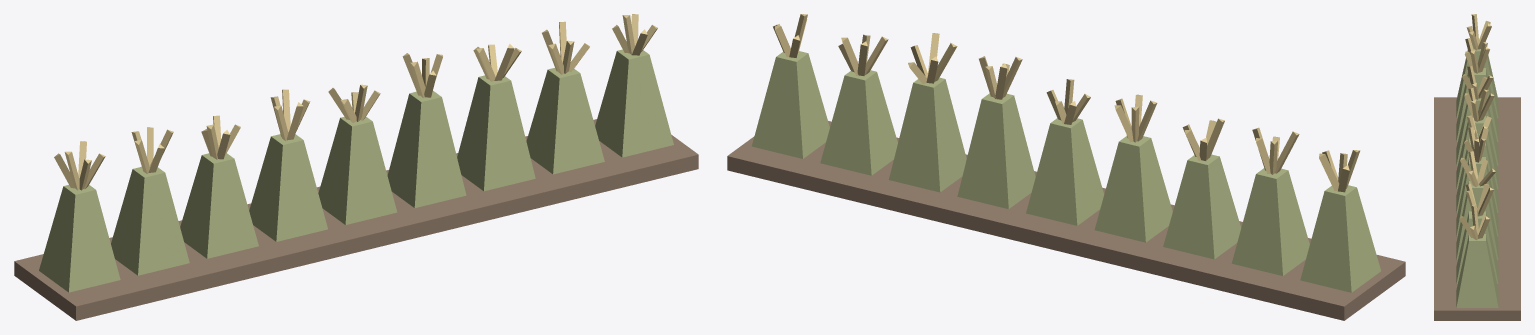
Rendered from andean-terraces-and-stone-village-terrace-crop-row-rea-794a667a__38225.glb.
3 views of the same model, side by side, from view 1: azimuth 30°, elevation 25°; view 2: azimuth 150°, elevation 25°; view 3: azimuth 270°, elevation 25° (orthographic). The views are drawn at different scales.
Visible parts, largest first — view 1: terrace-crop-row-ready-grass, terrace-crop-row-ready-earth, terrace-crop-row-ready-thatch; view 2: terrace-crop-row-ready-grass, terrace-crop-row-ready-earth, terrace-crop-row-ready-thatch; view 3: terrace-crop-row-ready-earth, terrace-crop-row-ready-grass, terrace-crop-row-ready-thatch.
Part boxes in pixels (box(x1,y1,x2,y2)): terrace-crop-row-ready-grass: box(39, 49, 673, 292); terrace-crop-row-ready-earth: box(14, 119, 698, 320); terrace-crop-row-ready-thatch: box(54, 14, 657, 190); terrace-crop-row-ready-grass: box(751, 51, 1380, 292); terrace-crop-row-ready-earth: box(727, 121, 1405, 320); terrace-crop-row-ready-thatch: box(773, 14, 1360, 192); terrace-crop-row-ready-earth: box(1434, 97, 1520, 320); terrace-crop-row-ready-grass: box(1456, 44, 1498, 307); terrace-crop-row-ready-thatch: box(1459, 14, 1495, 240).
Bounding box in the file's own units: 3.6 × 0.8325 × 0.6201.
